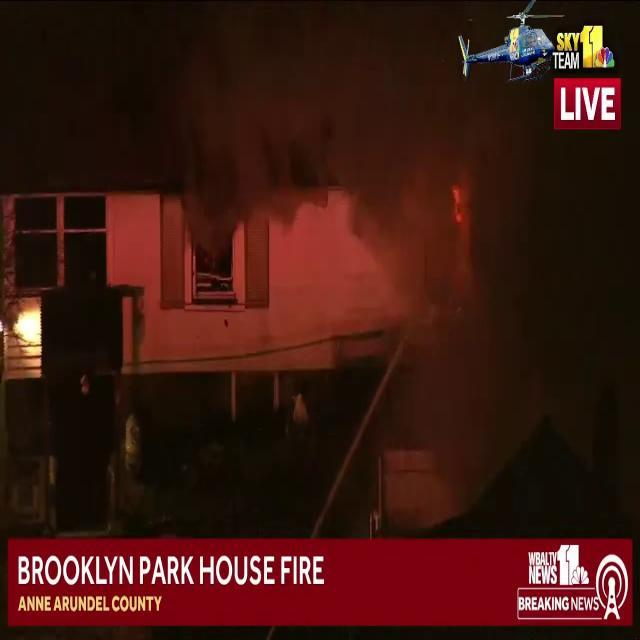Smoke: (97, 1, 500, 247)
